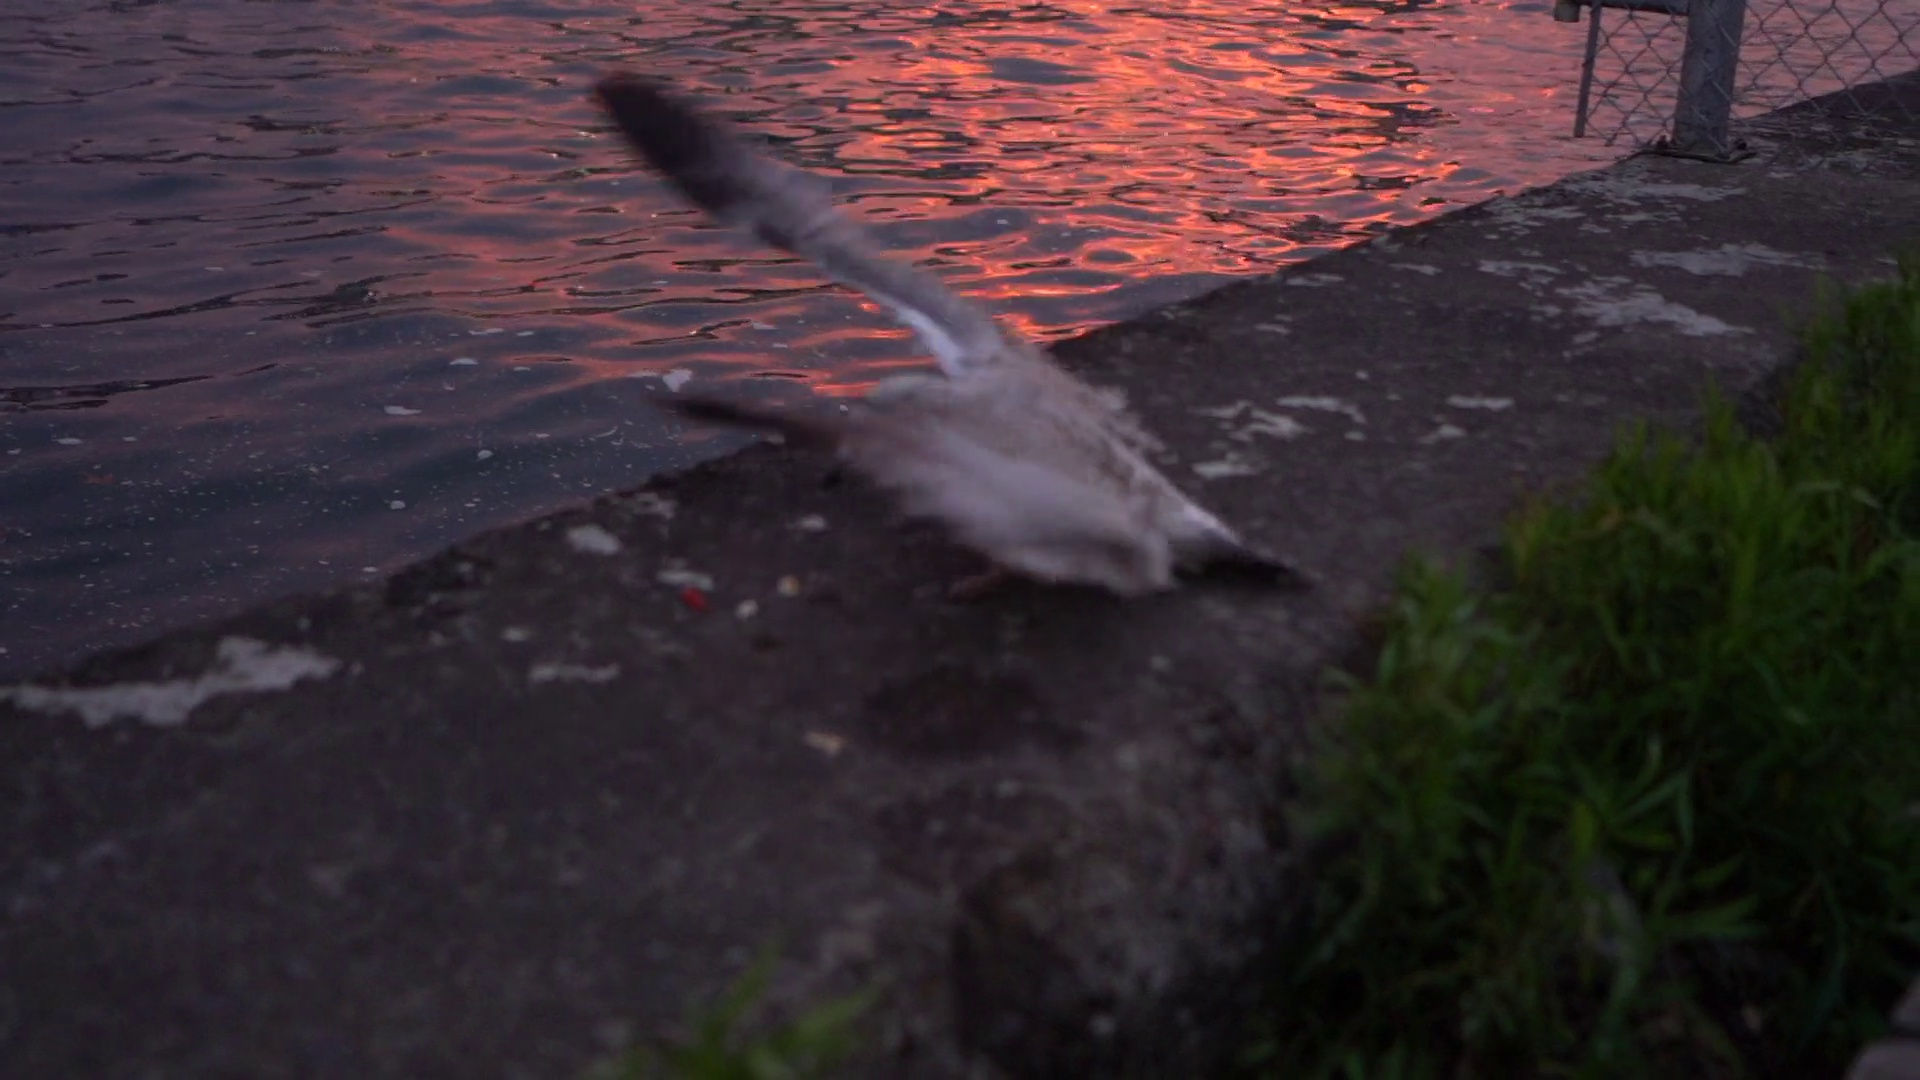bird: (593, 67, 1315, 593)
